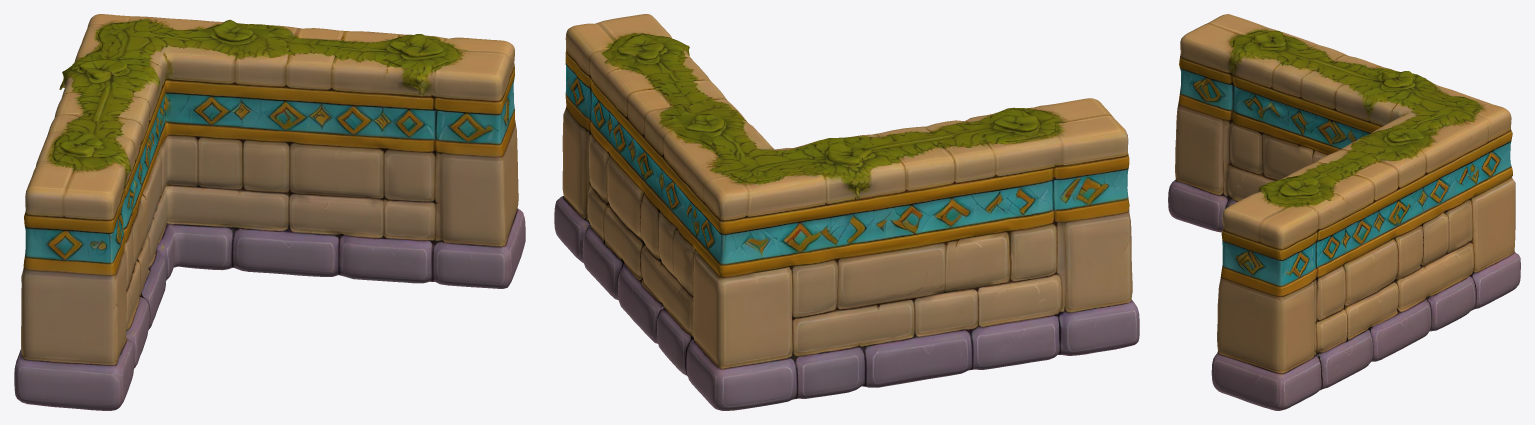
Rendered from 13-garden-corner-wall.glb.
3 renders of one model, left to right at view 1: azimuth 30°, elevation 25°; view 2: azimuth 150°, elevation 25°; view 3: azimuth 270°, elevation 25°, orthographic. The views are drawn at different scales.
Visible parts, largest first — view 1: tripo_node_8fe4370b; view 2: tripo_node_8fe4370b; view 3: tripo_node_8fe4370b.
Boxes of the visible parts, box(x1,y1,x2,y2) form: tripo_node_8fe4370b: box(14, 14, 525, 410); tripo_node_8fe4370b: box(554, 14, 1139, 410); tripo_node_8fe4370b: box(1168, 14, 1520, 410).
Bounding box in the file's own units: 1.53 × 0.6 × 1.01.
1 material, 1 textured.
